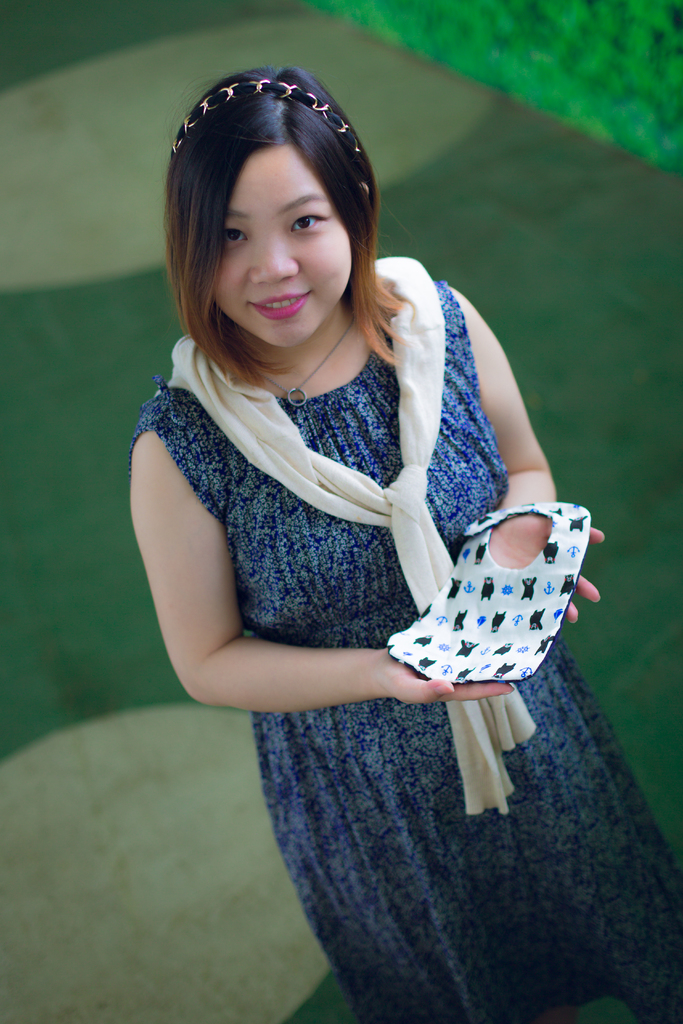Human_hand: (484, 509, 610, 623), (372, 648, 520, 705)
